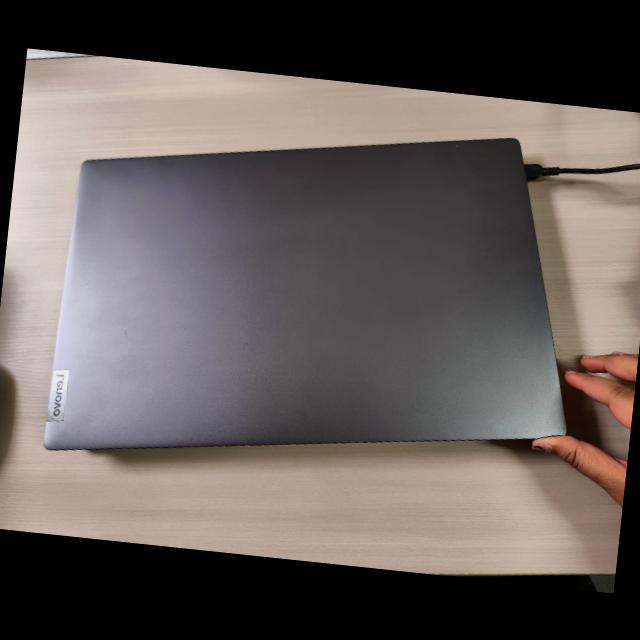laptop: (18, 82, 595, 508)
